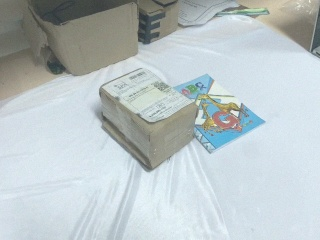book: (171, 72, 267, 155)
box: (99, 66, 199, 172), (23, 1, 140, 78), (136, 1, 181, 44)
